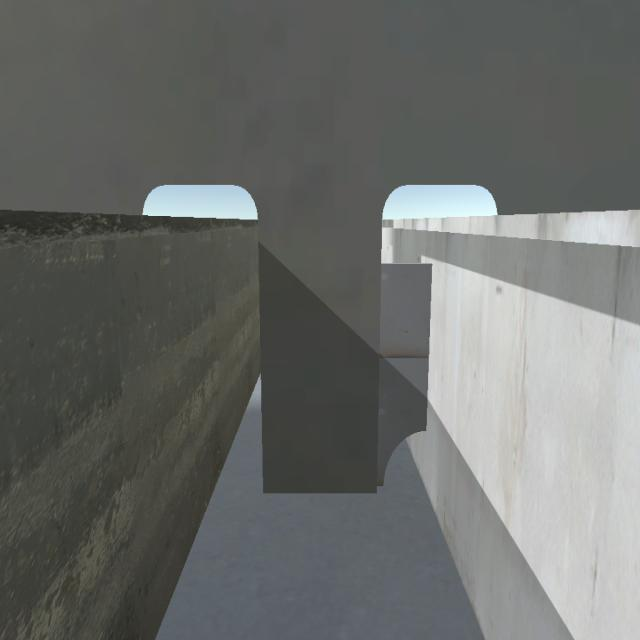fillet_yong_jeop_jang: (255, 471, 388, 505)
longi_yong_jeop_jang: (420, 256, 434, 436)
plate_behind: (382, 262, 432, 490)
